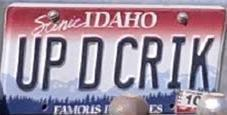placa de veiculo: (2, 1, 225, 114)
